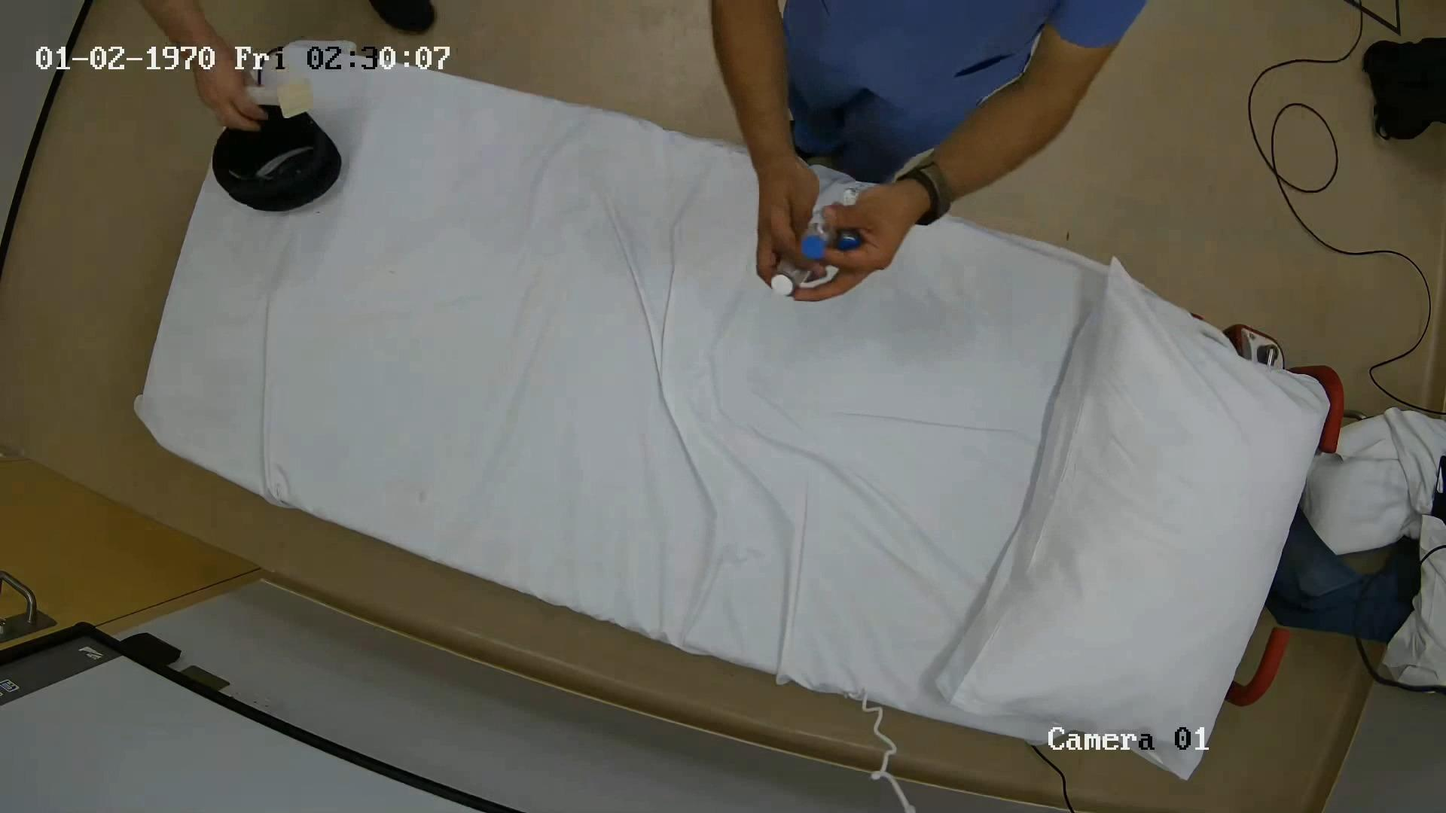augmentin: (767, 263, 810, 296)
bed: (135, 41, 1341, 778)
cefazolin: (801, 209, 828, 261), (836, 233, 862, 251)
prepstick: (249, 77, 313, 118)
tourniquet: (212, 105, 341, 212)
